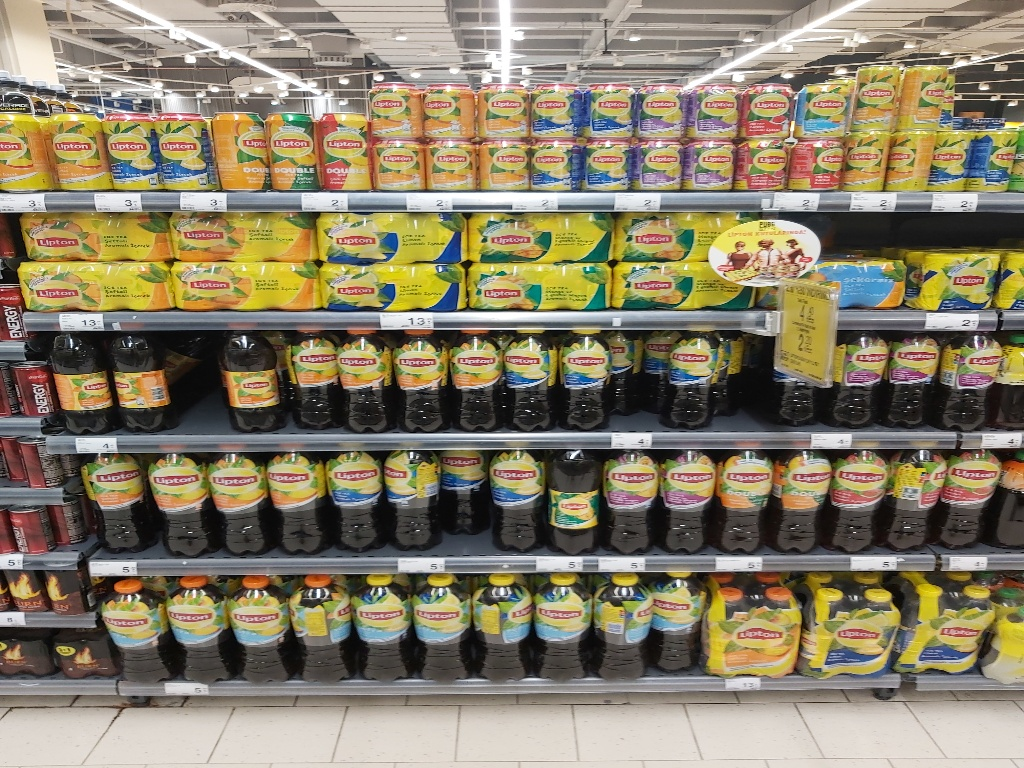urun: (901, 572, 1000, 671), (708, 577, 806, 676), (804, 580, 902, 678), (463, 205, 622, 264), (17, 207, 178, 265), (13, 256, 174, 314), (165, 205, 326, 262), (166, 257, 326, 314), (314, 209, 474, 265), (314, 262, 474, 311), (609, 214, 762, 264), (462, 261, 614, 311), (604, 265, 756, 315), (207, 444, 271, 553), (147, 451, 211, 559), (545, 447, 607, 558), (657, 440, 718, 552), (717, 445, 778, 557), (768, 445, 829, 557), (832, 444, 893, 556), (44, 330, 110, 433), (274, 326, 340, 429), (599, 442, 660, 553), (108, 329, 174, 431), (219, 333, 285, 435), (905, 242, 1002, 311), (101, 579, 168, 678), (348, 571, 410, 676), (467, 571, 529, 676), (526, 571, 588, 676), (287, 575, 348, 680), (411, 571, 472, 676), (593, 568, 654, 673), (643, 572, 704, 677), (325, 445, 384, 552), (83, 452, 148, 549), (381, 447, 440, 553), (269, 445, 324, 557), (492, 444, 550, 550), (938, 442, 995, 548), (883, 444, 934, 558), (170, 579, 228, 676), (229, 579, 287, 676), (499, 326, 553, 428), (837, 326, 891, 428), (338, 329, 392, 430), (393, 325, 447, 426), (660, 329, 714, 430), (884, 325, 938, 426), (943, 328, 997, 429), (46, 104, 108, 191), (451, 325, 504, 426), (552, 325, 605, 426), (311, 108, 370, 192), (152, 104, 210, 188), (211, 104, 269, 188), (257, 104, 315, 188), (99, 104, 156, 188), (847, 58, 905, 133), (421, 70, 480, 143), (470, 69, 529, 142), (442, 448, 493, 532), (364, 70, 422, 143), (524, 68, 582, 141), (579, 68, 637, 141), (897, 56, 947, 137), (732, 76, 794, 141), (788, 72, 850, 137), (630, 76, 691, 141), (684, 76, 745, 141), (969, 119, 1021, 188), (527, 143, 579, 200), (372, 142, 424, 198), (788, 141, 840, 197), (425, 138, 476, 195), (684, 138, 735, 195), (476, 142, 527, 198), (581, 140, 632, 196), (635, 141, 686, 197), (736, 140, 787, 196), (837, 140, 888, 196), (882, 136, 933, 192)
urun2: (1, 105, 51, 192)
